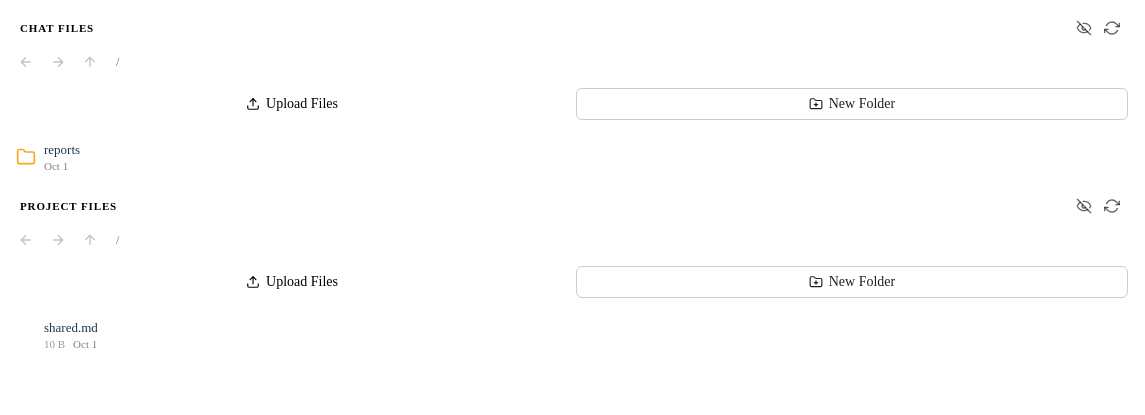
Test: per-source state › keeps independent paths and dotfile toggles for two sources
What coordinates should you click on to do the following:
click the text "reports"
I would click on:
 (62, 150)
Its box is [44,142,80,157].
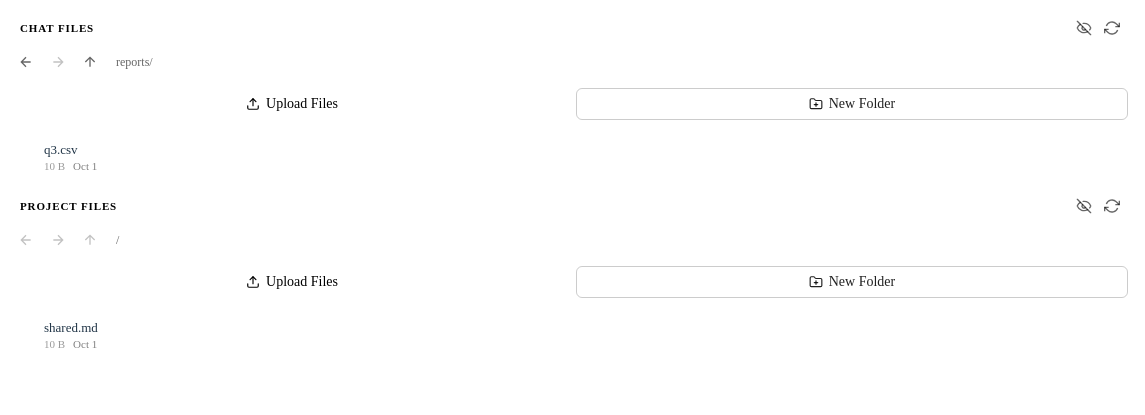
Expected: the text titled "/" is shown, [116,232,119,246]
Expected: the text "q3.csv" is shown, [44,142,78,157]
Expected: the text titled "/reports" is shown, [116,54,153,68]
What coordinates should you click on to do the following:
click the button titled "Show hidden files" in the row of "Project Files"
I would click on:
 (1084, 206)
Its box is [1072,194,1096,218].
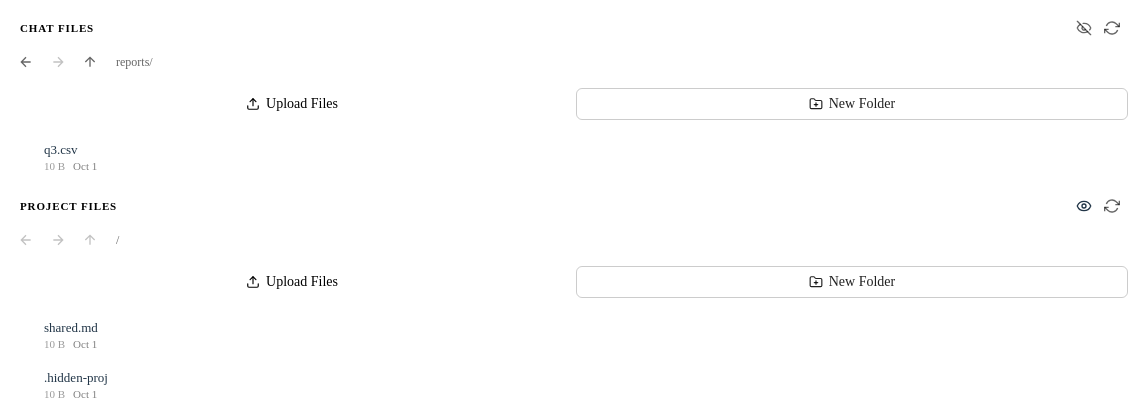
Expected: the button titled "Show hidden files" is shown, [1072,16,1096,40]
Expected: the text ".hidden-proj" is shown, [44,370,108,385]
